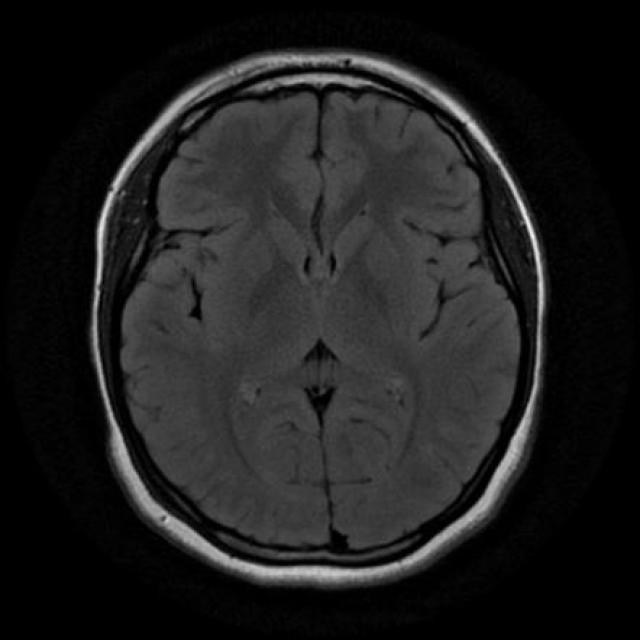notumor: (90, 48, 550, 595)
